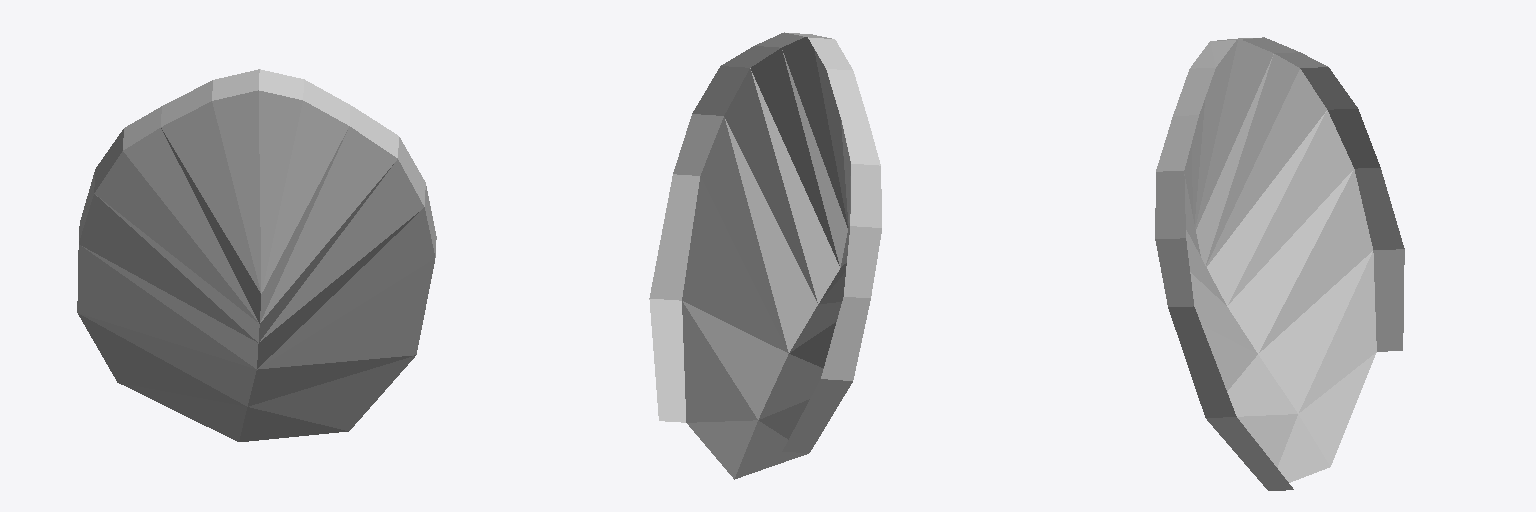
The model's file is arbre11.obj.
3 views of the same model, side by side, from view 1: azimuth 30°, elevation 25°; view 2: azimuth 150°, elevation 25°; view 3: azimuth 270°, elevation 25° (orthographic).
Bounding box in the file's own units: 0.2967 × 0.4188 × 0.2286.